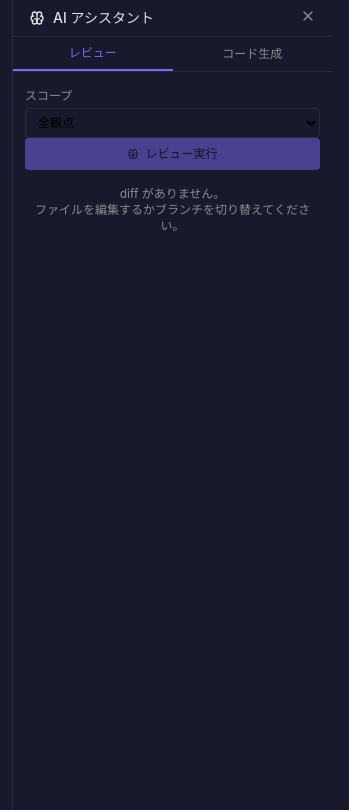
it: AiAssistant › 「コード生成」タブ: codegenStatus=loading で「生成中」表示
The width and height of the screenshot is (349, 810).
Step 1. Click the button "コード生成" → (252, 54), box 172,37 -> 332,71
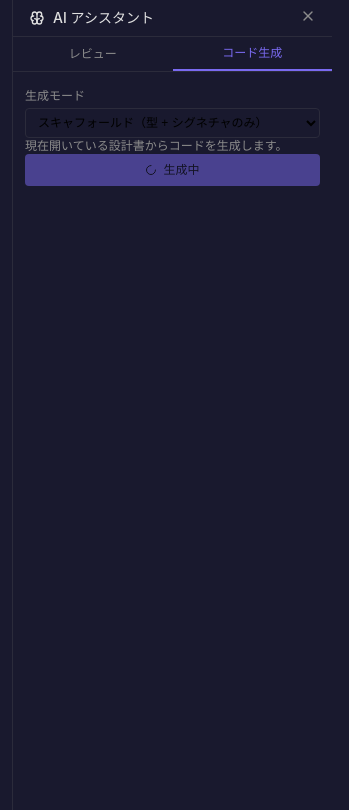
Expected: the button "生成中" is disabled, 25,154 -> 320,186
Expected: the button "生成中" is shown, 25,154 -> 320,186
